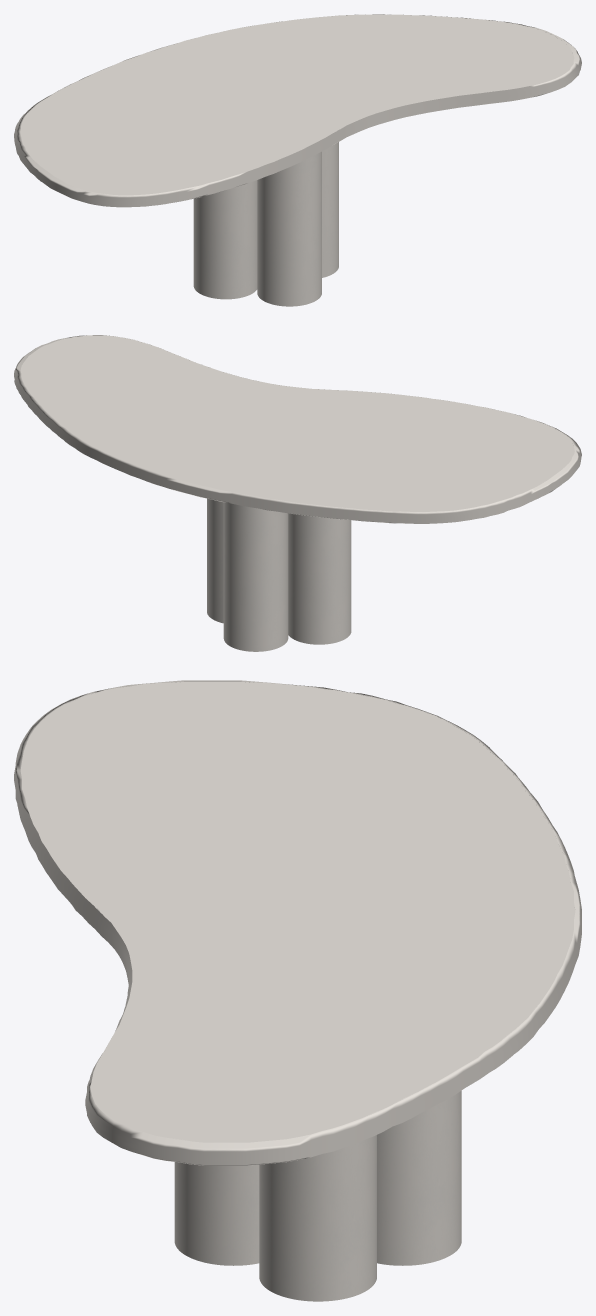
The model's file is pearlwhite_leaf1_round_secondtable.glb.
The picture shows the model from 3 angles, top to bottom: view 1: azimuth 30°, elevation 25°; view 2: azimuth 150°, elevation 25°; view 3: azimuth 270°, elevation 25°; orthographic projection. The views are drawn at different scales.
Visible parts, largest first — view 1: round_leaf1, secondtable; view 2: round_leaf1, secondtable; view 3: round_leaf1, secondtable.
Part boxes in pixels (x1,y1,x2,y2): round_leaf1: [14, 14, 581, 207]; secondtable: [193, 142, 338, 306]; round_leaf1: [14, 335, 581, 523]; secondtable: [207, 498, 351, 651]; round_leaf1: [14, 680, 581, 1165]; secondtable: [174, 1091, 461, 1301].
Size of the model in its own units: 7.49 by 2.5 by 3.8.
1 material, 1 textured.
